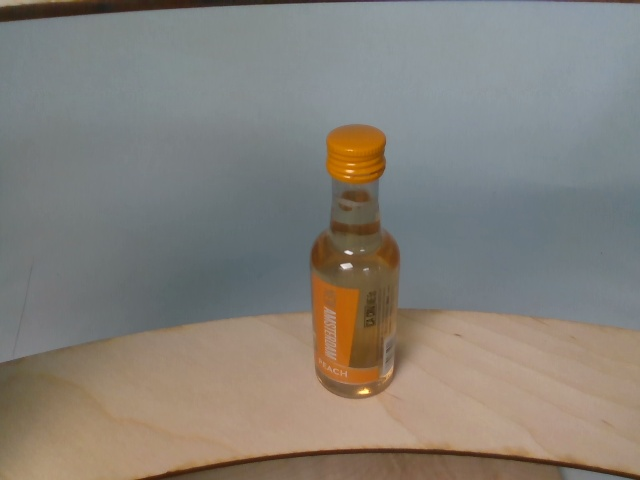ginger_beer: (309, 123, 403, 399)
